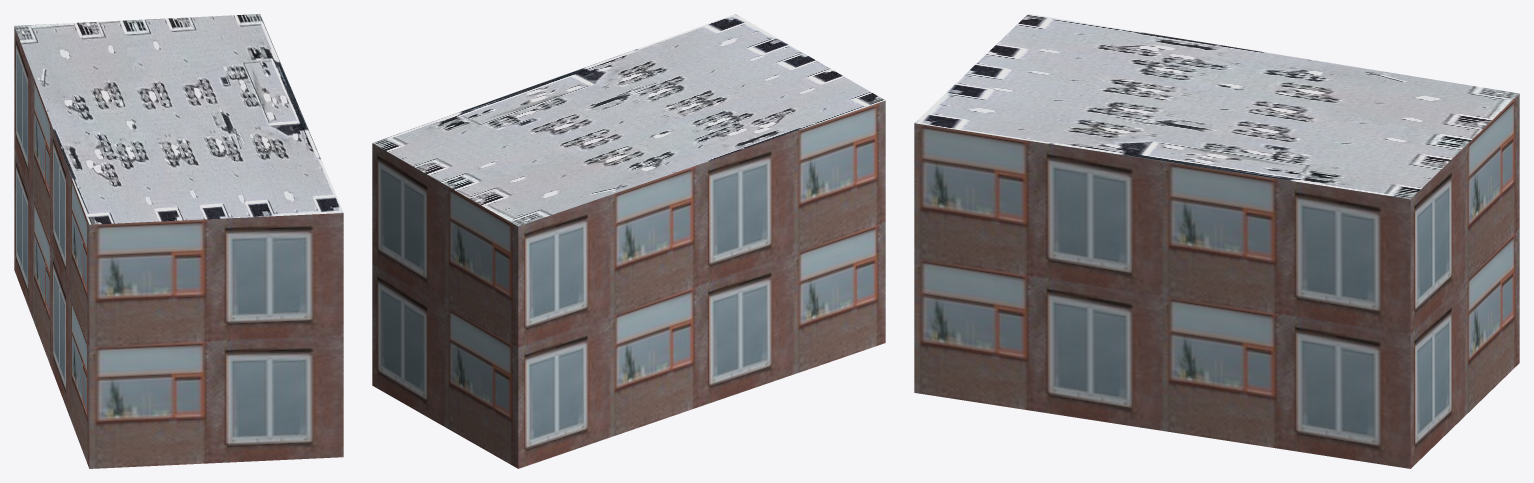
Rendered from ResTex__2363.fbx.
3 renders of one model, left to right at view 1: azimuth 30°, elevation 25°; view 2: azimuth 150°, elevation 25°; view 3: azimuth 270°, elevation 25°, orthographic. The views are drawn at different scales.
Parts seen in each view (by area): view 1: CityEngineMaterial_19_m, CityEngineMaterial_15_m; view 2: CityEngineMaterial_19_m, CityEngineMaterial_15_m; view 3: CityEngineMaterial_19_m, CityEngineMaterial_15_m.
Boxes of the visible parts, x1,y1,x2,y2 form: CityEngineMaterial_19_m: [14, 26, 343, 468]; CityEngineMaterial_15_m: [14, 14, 343, 224]; CityEngineMaterial_19_m: [372, 100, 885, 468]; CityEngineMaterial_15_m: [372, 14, 885, 226]; CityEngineMaterial_19_m: [914, 94, 1519, 468]; CityEngineMaterial_15_m: [914, 14, 1519, 199].
Size of the model in its own units: 8.85 by 6 by 12.21.
Materials: 2 (2 with a texture image).
